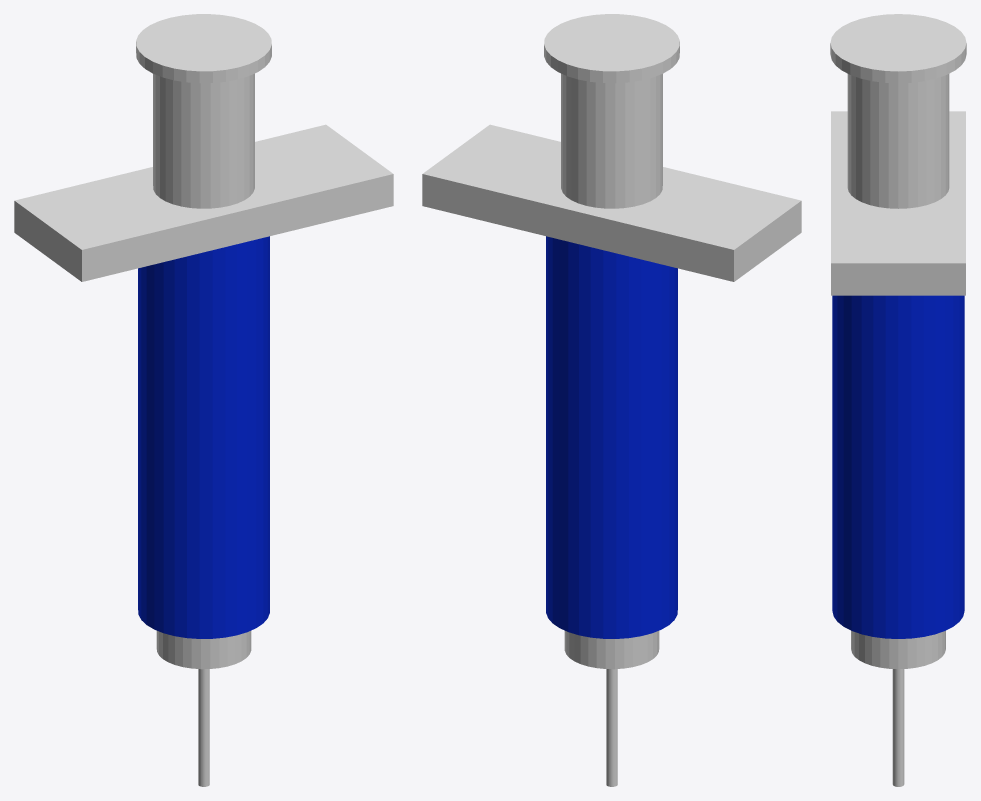
File: seringue2.fbx
The picture shows the model from 3 angles, left to right: view 1: azimuth 30°, elevation 25°; view 2: azimuth 150°, elevation 25°; view 3: azimuth 270°, elevation 25°; orthographic projection.
Parts seen in each view (by area): view 1: Cube; view 2: Cube; view 3: Cube.
Part boxes in pixels (box(x1,y1,x2,y2)): Cube: box(14, 14, 393, 786); Cube: box(422, 14, 801, 786); Cube: box(830, 14, 966, 786).
Bounding box in the file's own units: 533 × 1213 × 202.
